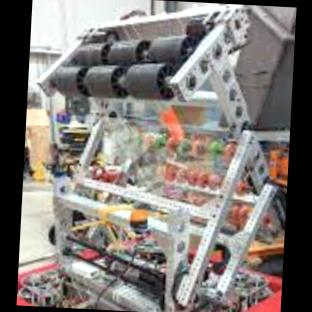Robot: (19, 3, 295, 312)
